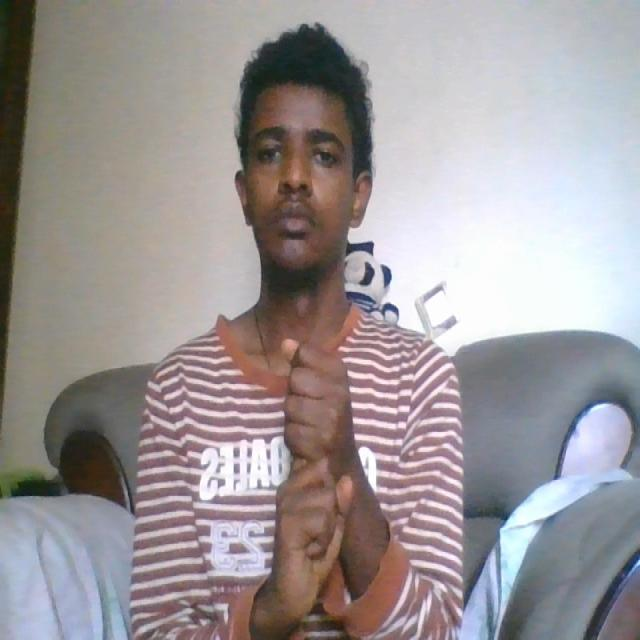meyaz: (266, 330, 363, 630)
